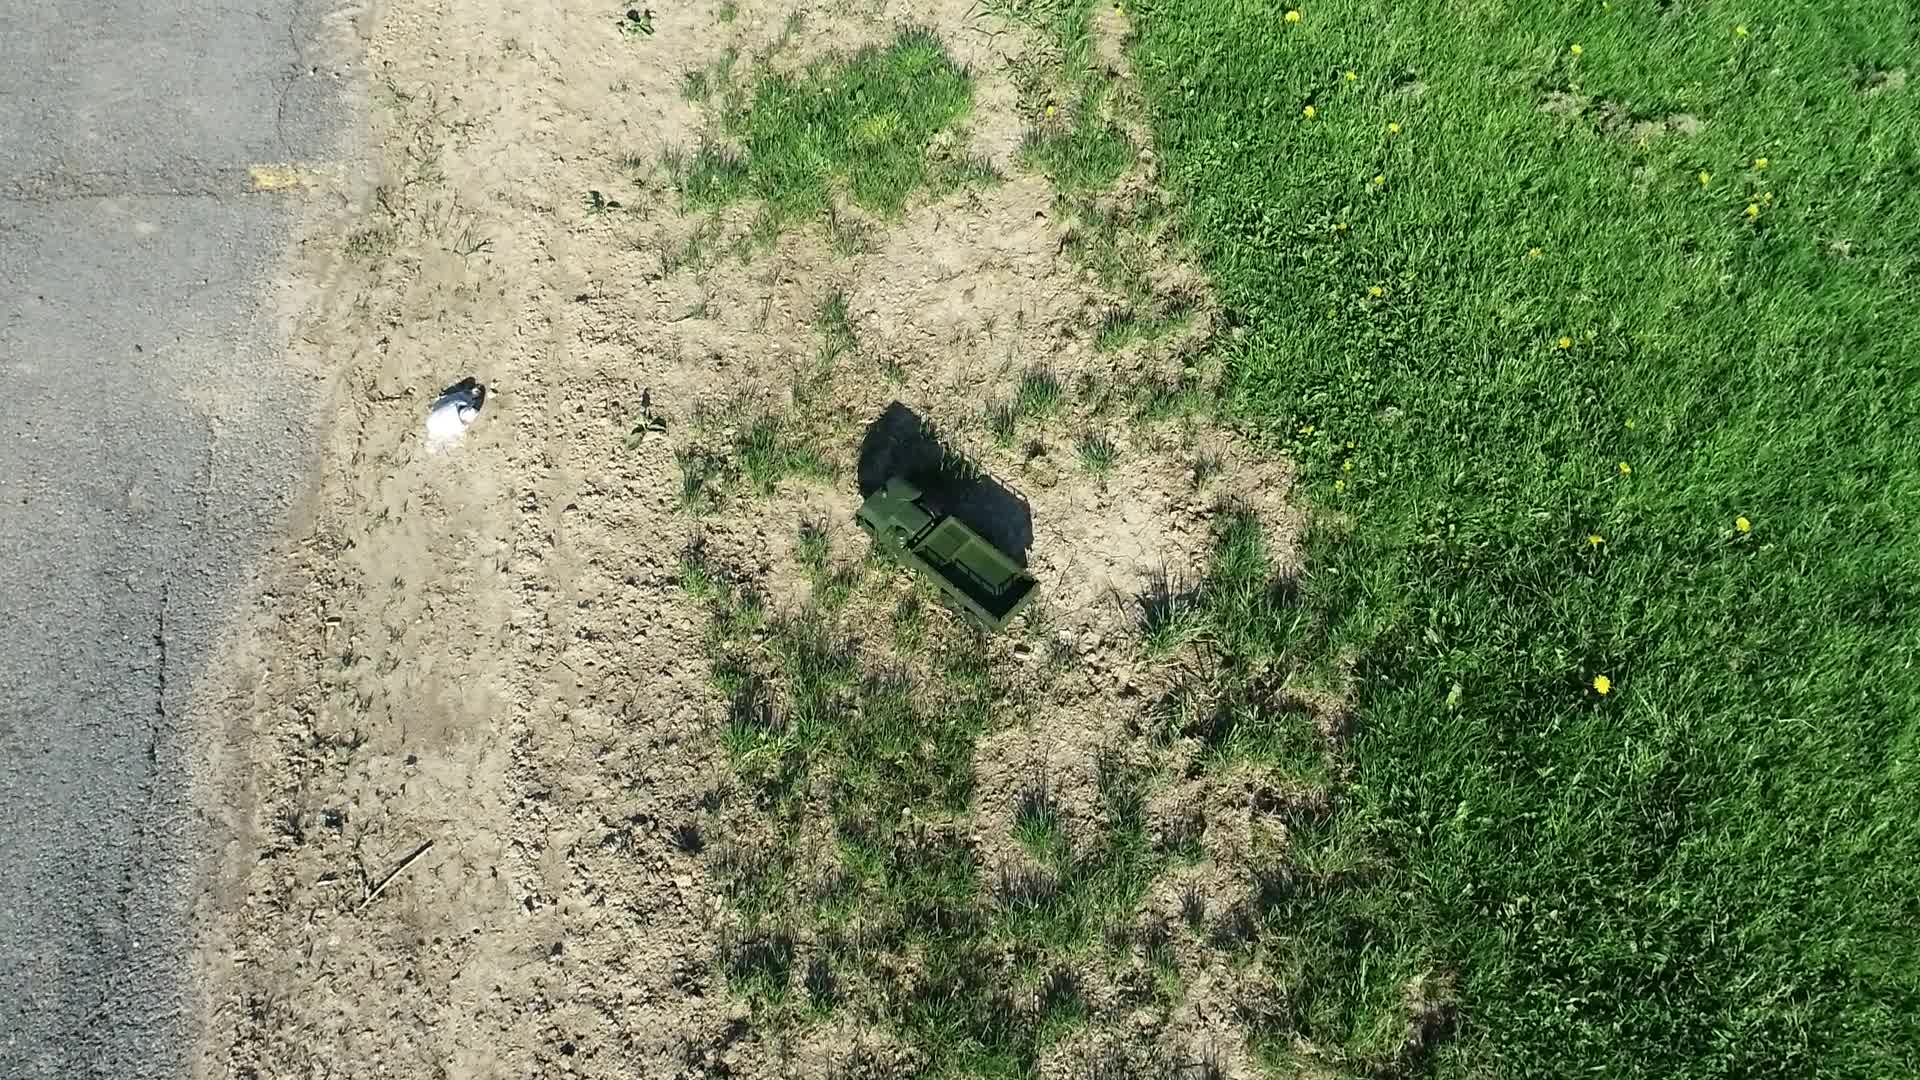transporter9: (847, 481, 1046, 633)
